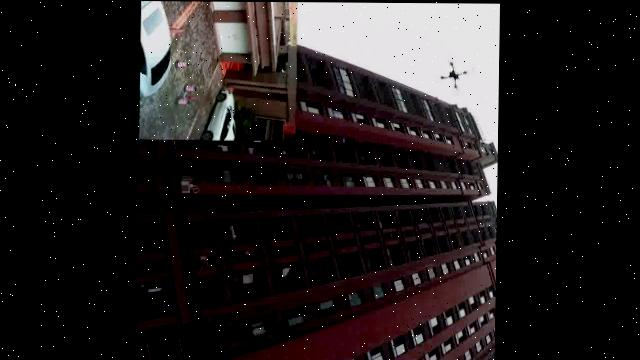drone: (438, 61, 468, 93)
